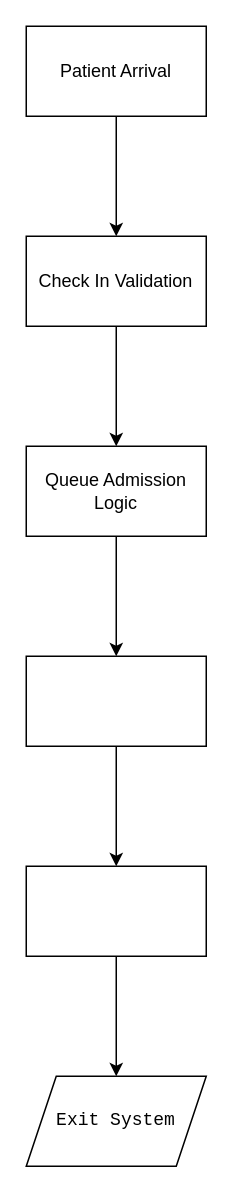
This 233x1193 diagram has some shape labels left out. The shapes that lost their labels are listed below. From the top down, each one's centre as x and y in pixels, then its label:
[115,700]: Waiting State
[115,910]: Consultation Service
